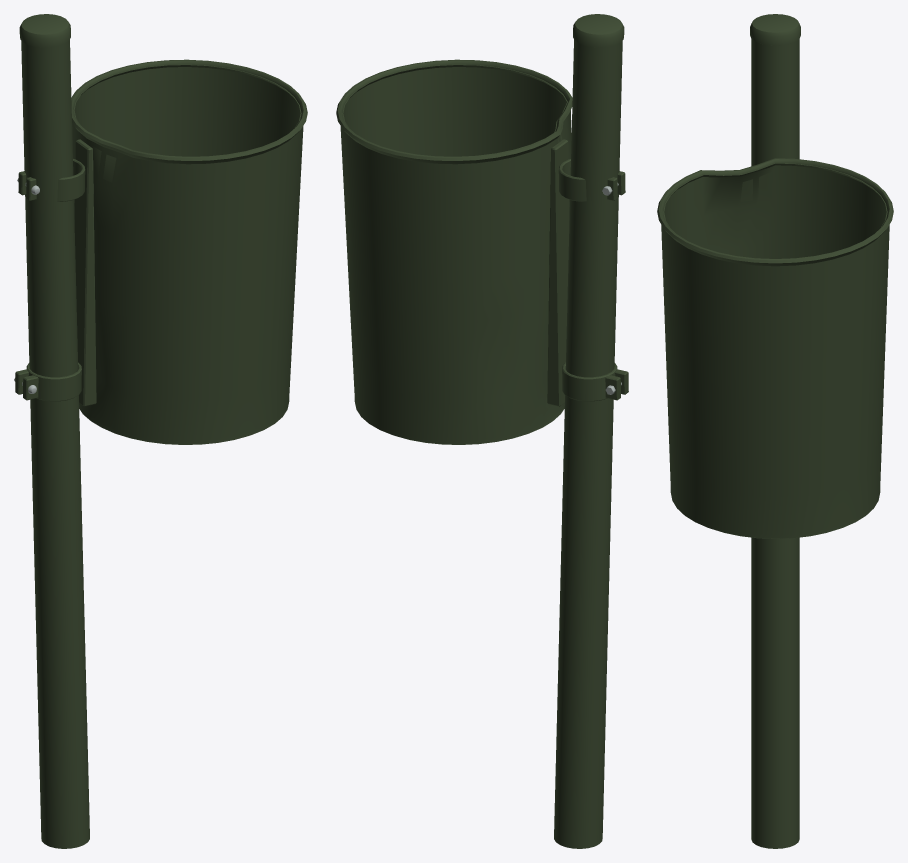
The model's file is K1_pole_open_C.glb.
3 views of the same model, side by side, from view 1: azimuth 30°, elevation 25°; view 2: azimuth 150°, elevation 25°; view 3: azimuth 270°, elevation 25° (orthographic).
Visible parts, largest first — view 1: k1_bin, k1_post, k1_strap, k1_clamp_0, k1_clamp_1; view 2: k1_bin, k1_post, k1_strap, k1_clamp_0, k1_clamp_1; view 3: k1_bin, k1_post.
Part boxes in pixels (x1,y1,x2,y2): k1_bin: (71,59,307,444); k1_post: (19,14,89,848); k1_strap: (74,139,96,406); k1_clamp_0: (26,362,81,401); k1_clamp_1: (57,159,85,201); k1_bin: (336,59,572,444); k1_post: (554,14,624,848); k1_strap: (547,139,569,406); k1_clamp_0: (562,362,617,401); k1_clamp_1: (558,159,586,201); k1_bin: (657,158,893,538); k1_post: (750,14,800,848).
Size of the model in its own units: 0.4858 by 1.41 by 0.373.
